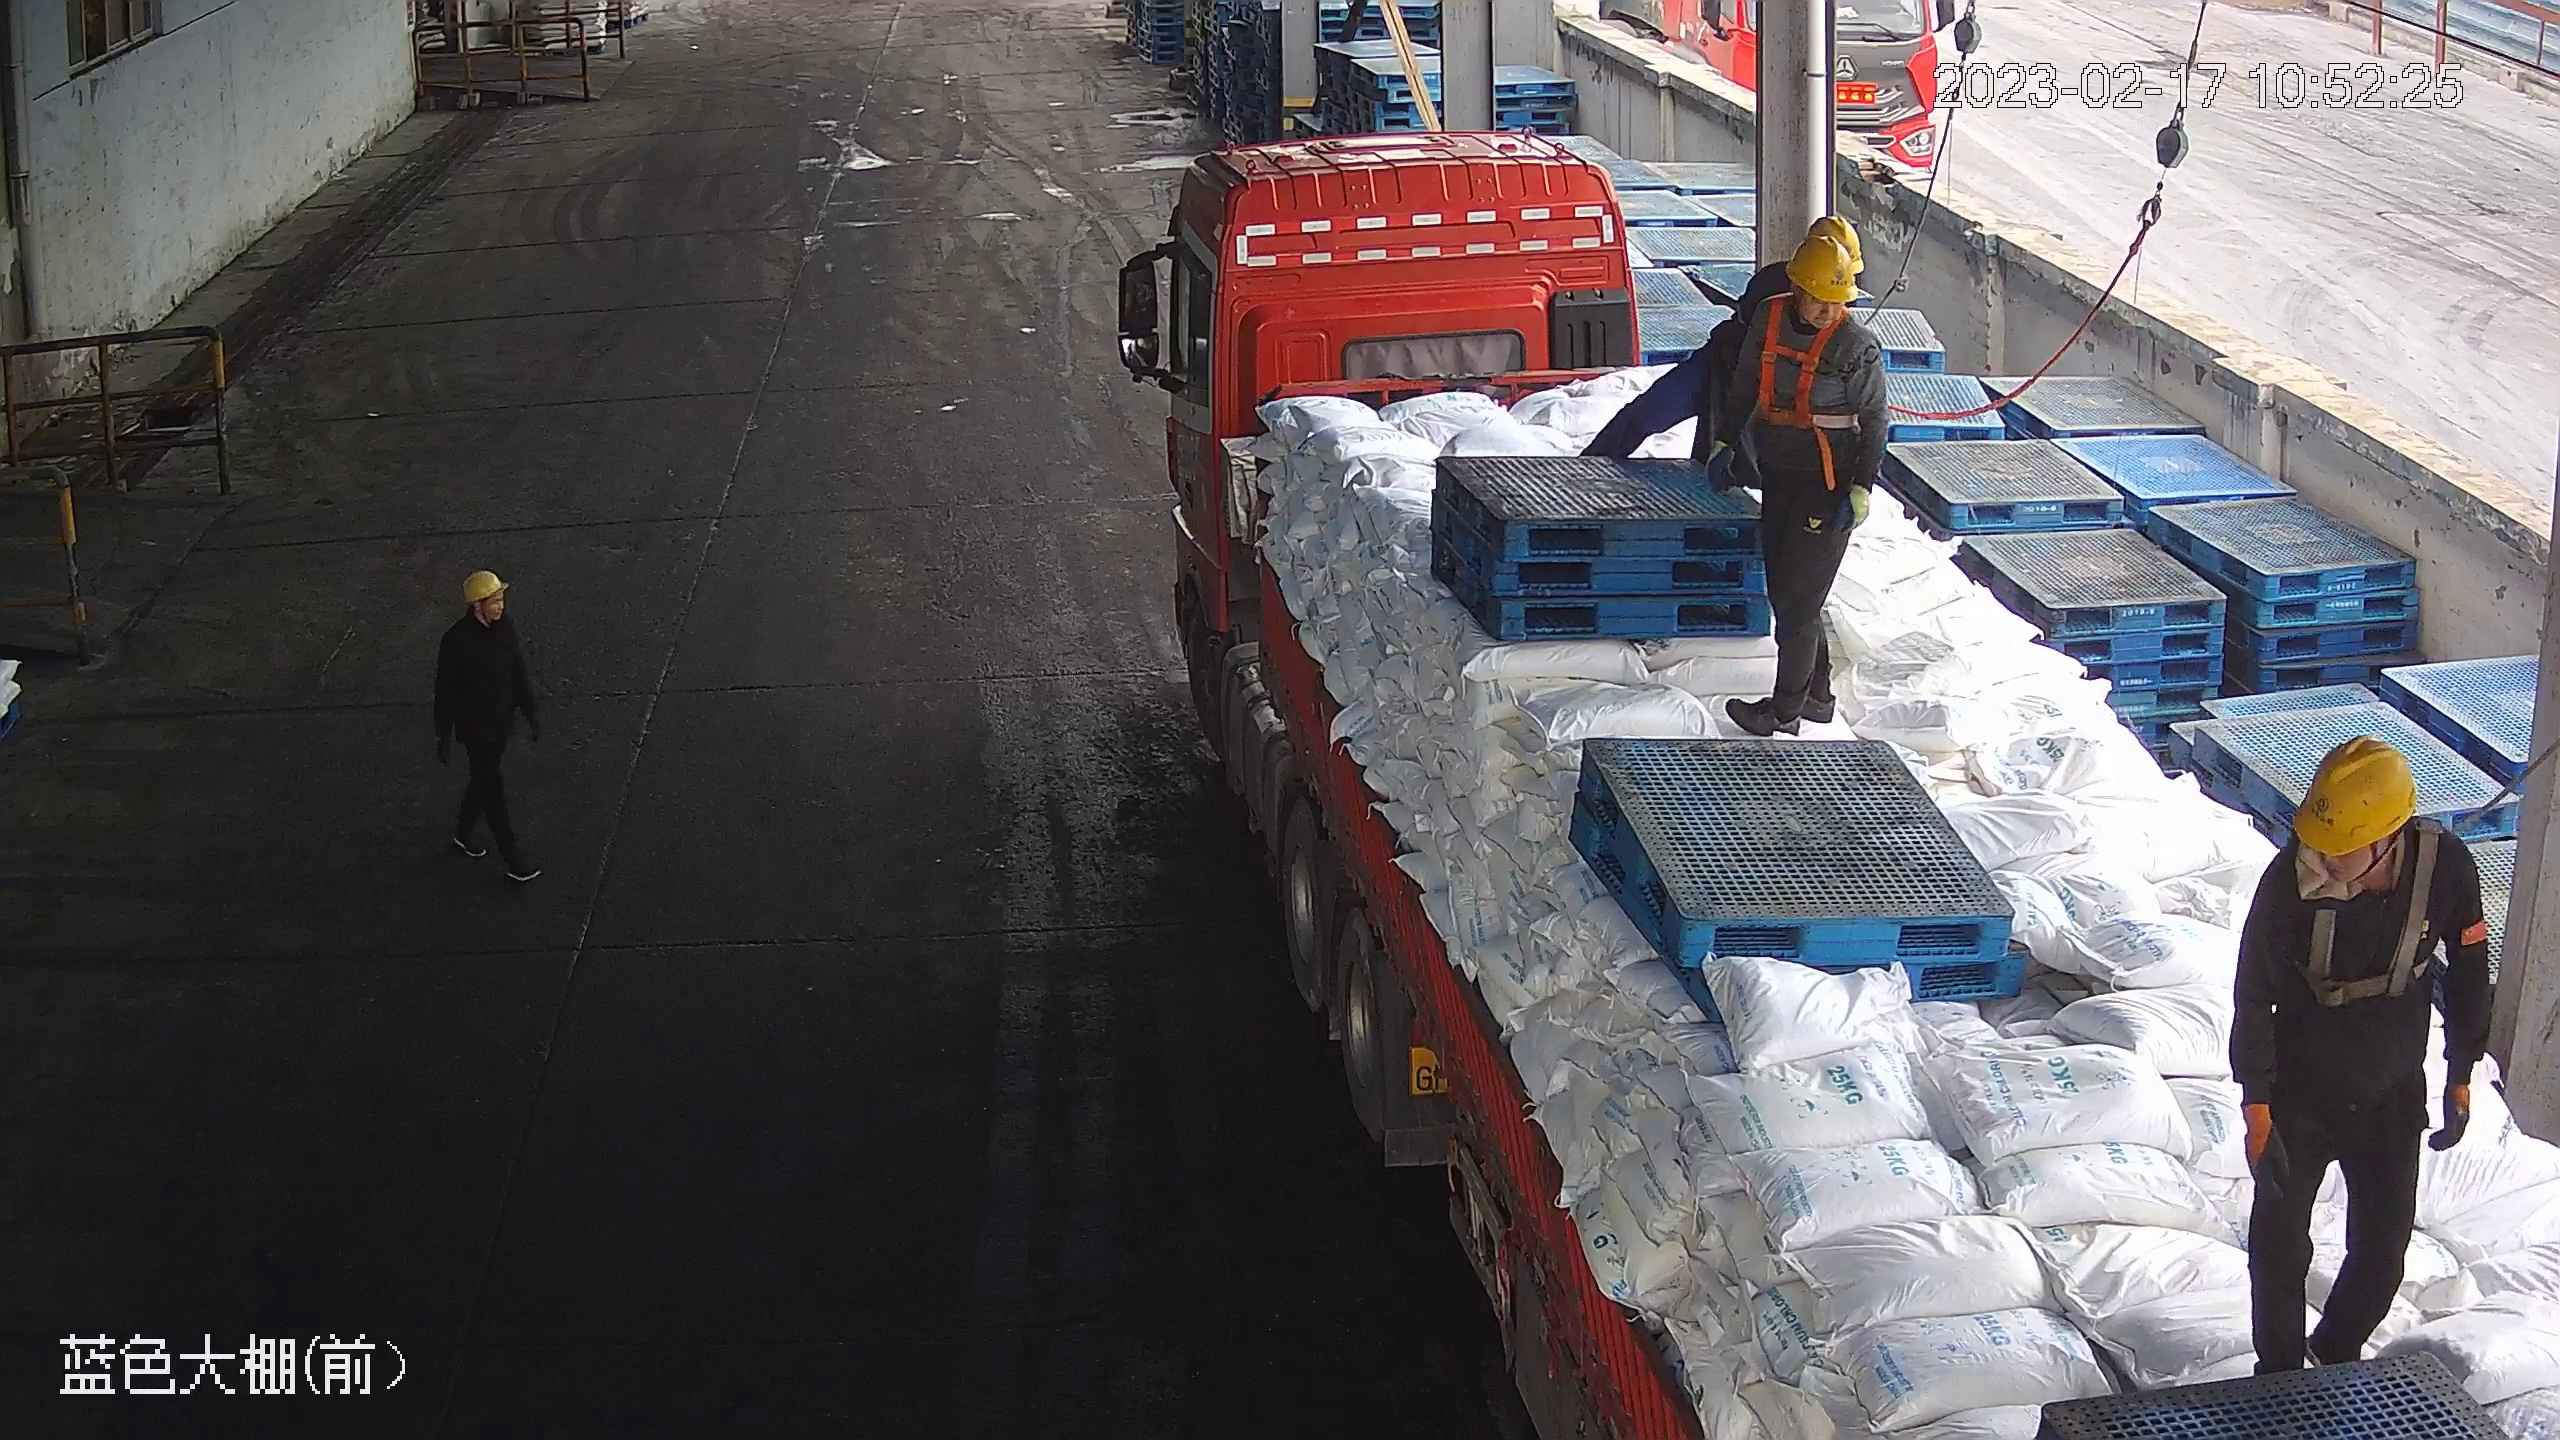belt: (2286, 827, 2441, 1005), (1749, 292, 1858, 433)
head: (2248, 731, 2480, 936), (1731, 218, 1876, 360), (438, 569, 527, 659)
helmet: (2289, 731, 2421, 853), (1783, 234, 1860, 303), (1808, 215, 1866, 275), (462, 568, 505, 602)
people: (2222, 730, 2496, 1378), (1722, 235, 1889, 737), (432, 563, 550, 888)
truck: (1108, 119, 2551, 1440)
